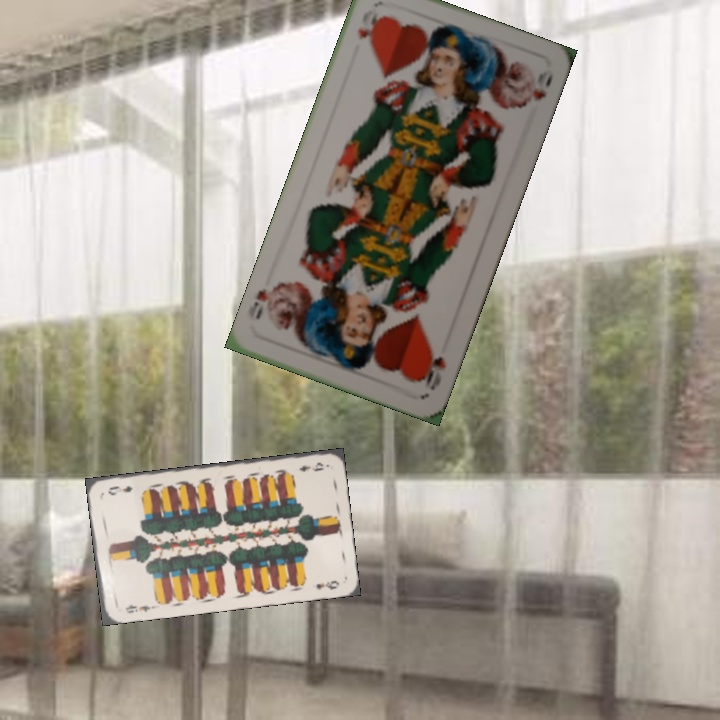E9: (121, 600, 156, 615), (295, 458, 326, 474)
HO: (417, 344, 449, 393), (354, 5, 382, 49)
